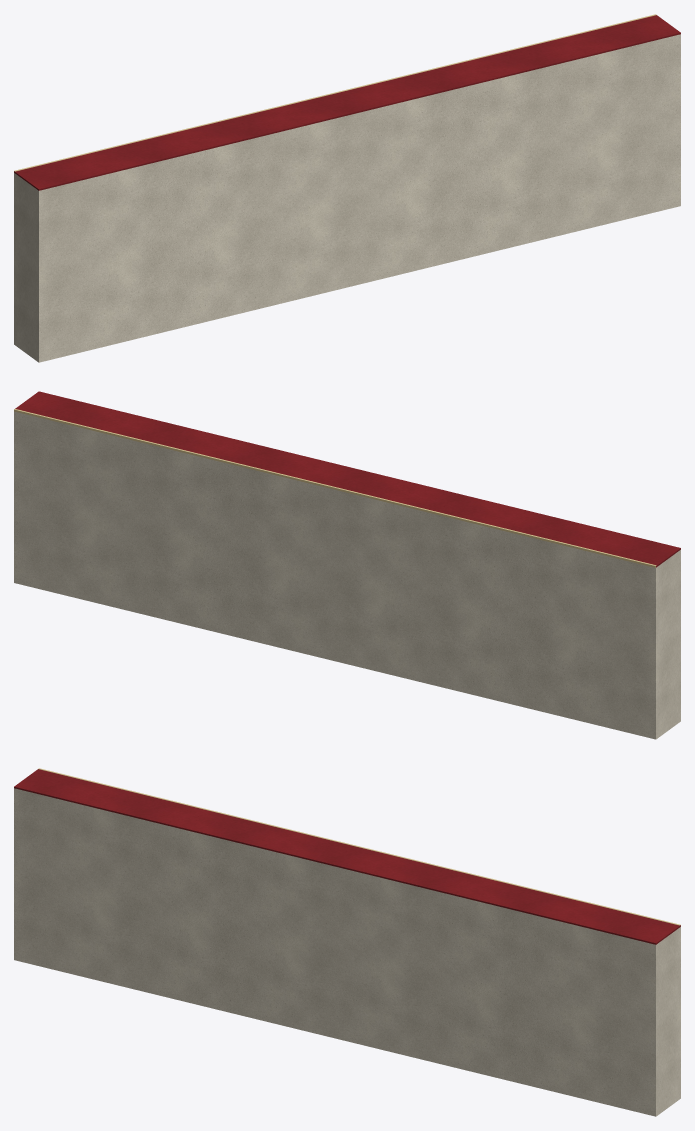
The model's file is tier_07.glb.
The picture shows the model from 3 angles, top to bottom: view 1: azimuth 30°, elevation 25°; view 2: azimuth 150°, elevation 25°; view 3: azimuth 330°, elevation 25°; orthographic projection.
Parts seen in each view (by area): view 1: tier_07_trim, tier_07_carpet, tier_07_gold; view 2: tier_07_trim, tier_07_carpet, tier_07_gold; view 3: tier_07_trim, tier_07_carpet, tier_07_gold.
Part boxes in pixels (x1,y1,x2,y2): tier_07_trim: (14,34,680,362); tier_07_carpet: (14,15,680,190); tier_07_gold: (14,14,656,171); tier_07_trim: (14,411,680,739); tier_07_carpet: (15,391,680,567); tier_07_gold: (14,409,656,567); tier_07_trim: (14,788,680,1116); tier_07_carpet: (14,769,680,944); tier_07_gold: (38,768,680,925).
Size of the model in its own units: 13.4 by 3.46 by 0.905.
3 materials, 2 textured.
